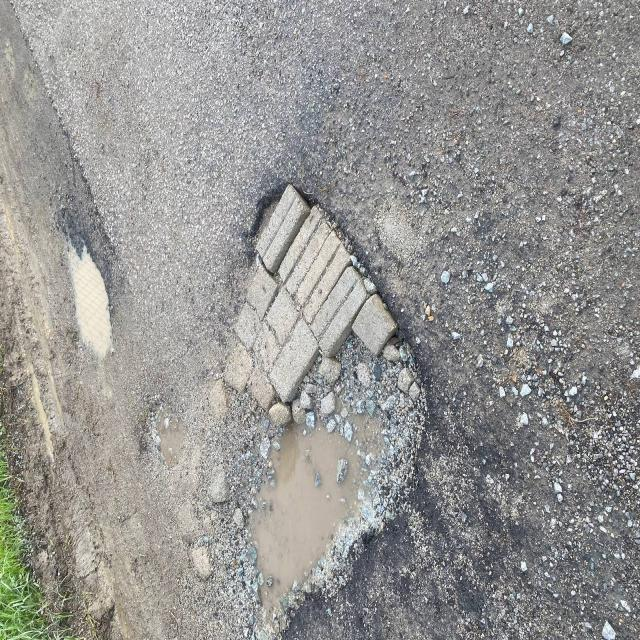Pothole: (170, 167, 452, 640)
